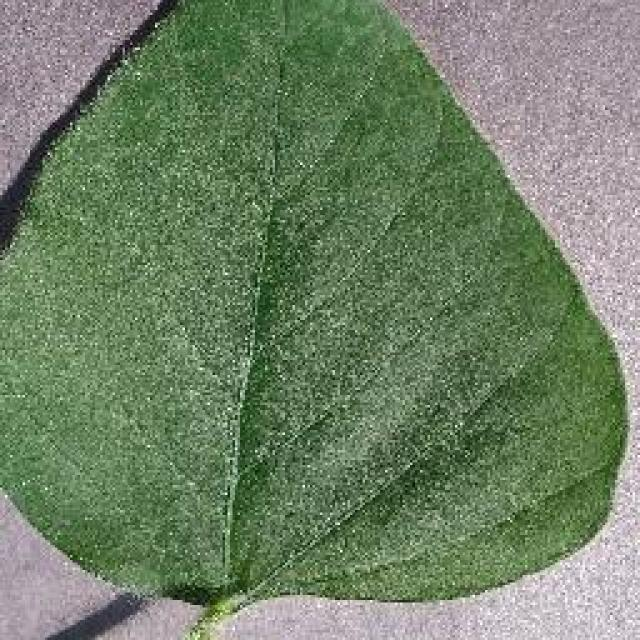Soy_healthy: (14, 35, 576, 582)
